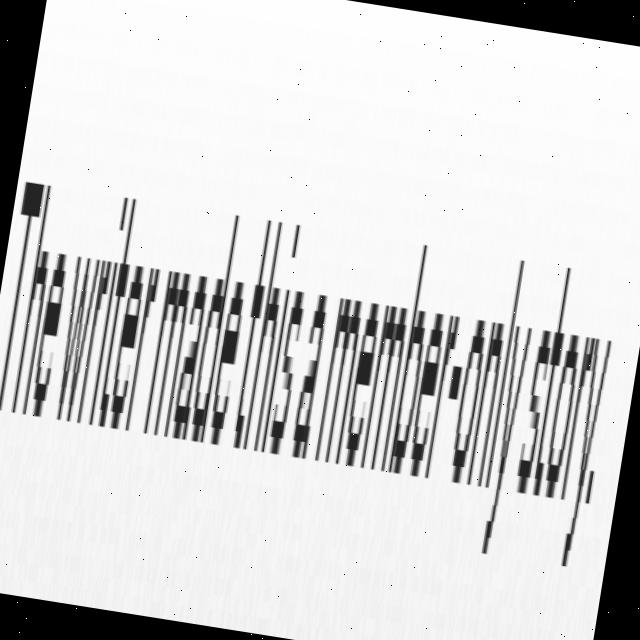word: (299, 220, 547, 584), (39, 140, 183, 497), (129, 164, 267, 520), (502, 228, 639, 579), (211, 183, 326, 544), (0, 140, 89, 464), (276, 220, 347, 520)
